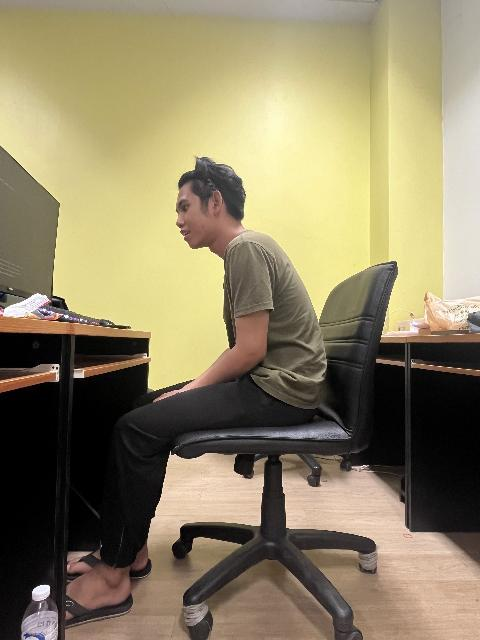bad-pose: (0, 0, 480, 640)
